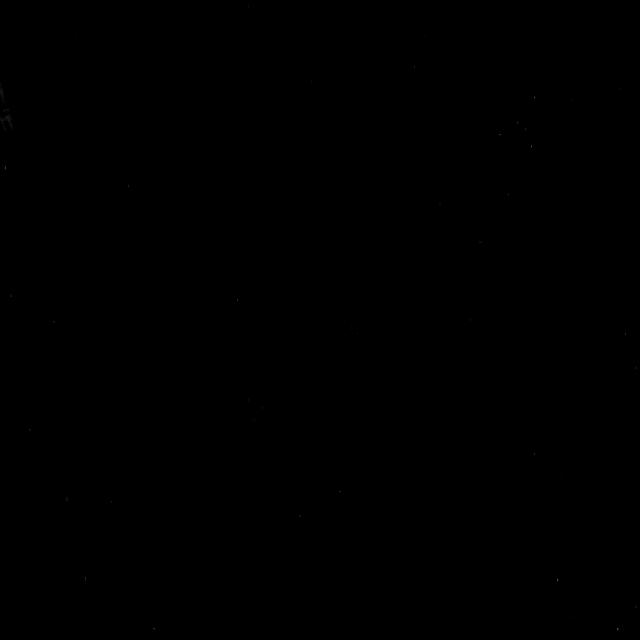medium_debris: (0, 16, 56, 184)
